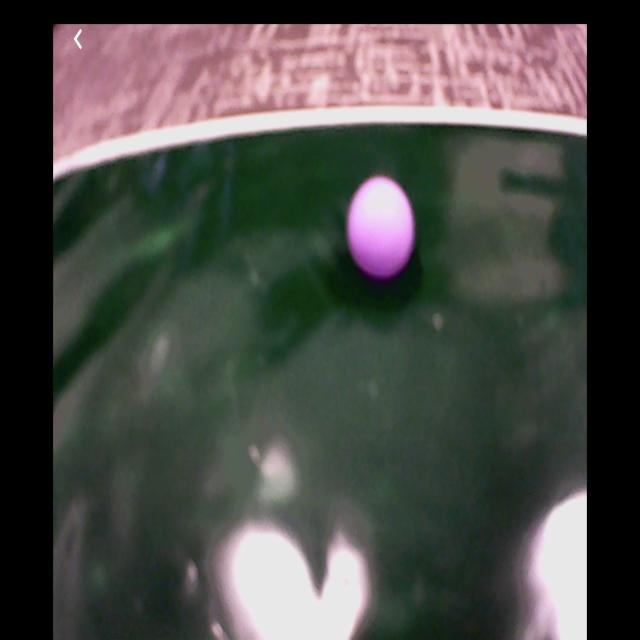ball: (349, 176, 418, 281)
